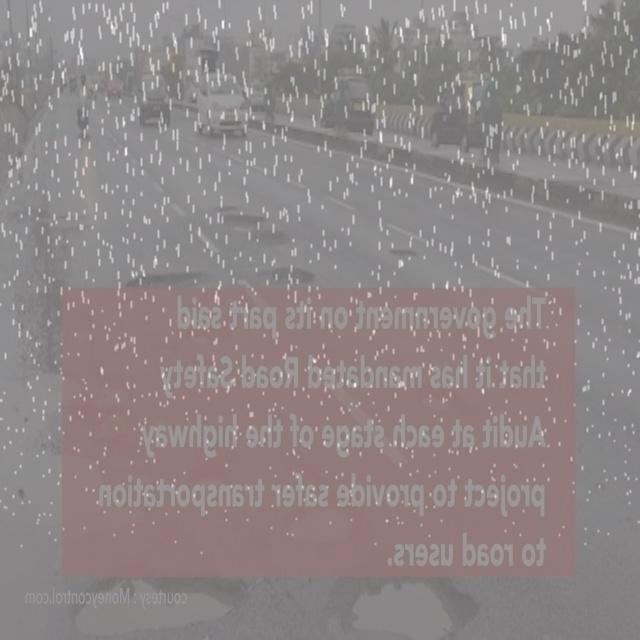Pothole: (0, 192, 73, 393), (62, 566, 252, 640), (326, 577, 497, 640), (213, 197, 294, 251), (125, 266, 215, 292), (264, 261, 322, 291), (396, 248, 423, 262)
